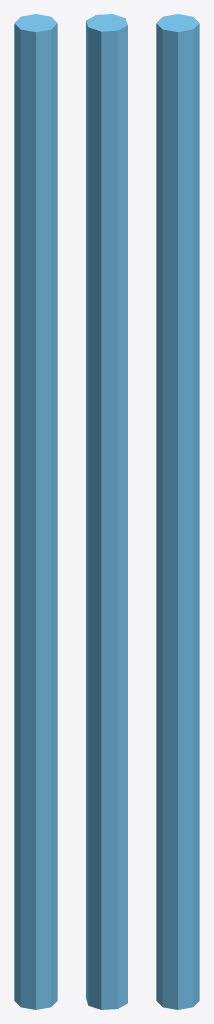
File: rope.fbx
The picture shows the model from 3 angles, left to right: view 1: azimuth 90°, elevation 25°; view 2: azimuth 210°, elevation 25°; view 3: azimuth 270°, elevation 25°; orthographic projection.
Parts seen in each view (by area): view 1: Rope; view 2: Rope; view 3: Rope.
Part boxes in pixels (x1,y1,x2,y2): Rope: (14,14,57,1009); Rope: (86,14,127,1009); Rope: (156,14,199,1009).
Size of the model in its own units: 20 by 500 by 20.
Materials: 1 (1 with a texture image).
